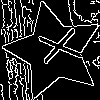X: (28, 26, 82, 69)
